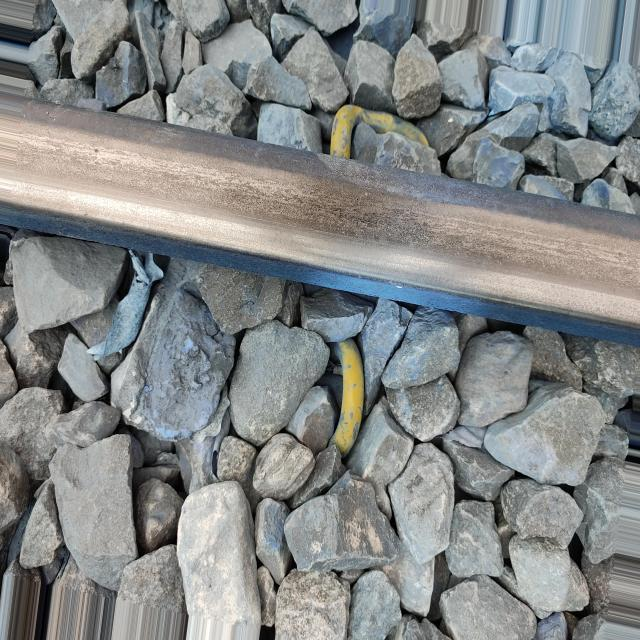Good Fasteners: (317, 339, 364, 457), (330, 105, 429, 158)
